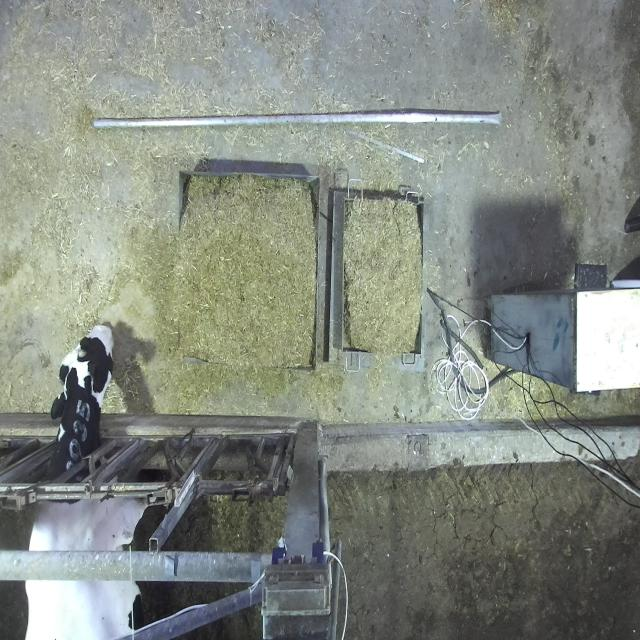cow: (49, 319, 113, 422)
